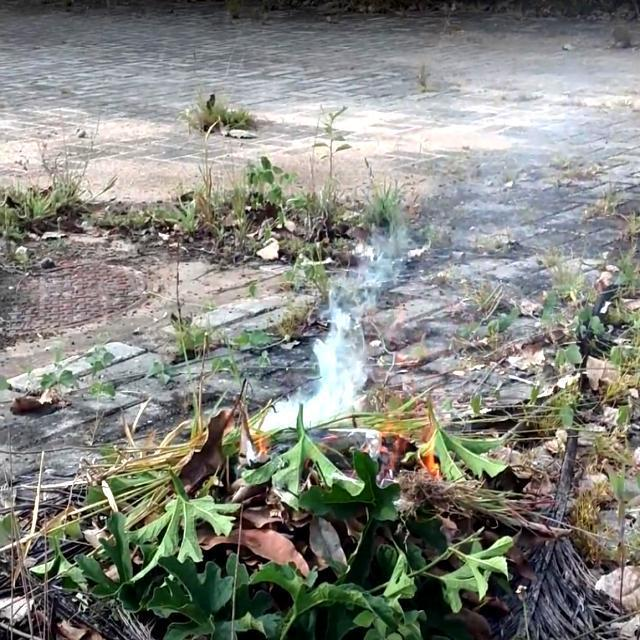Smoke: (278, 259, 392, 436)
